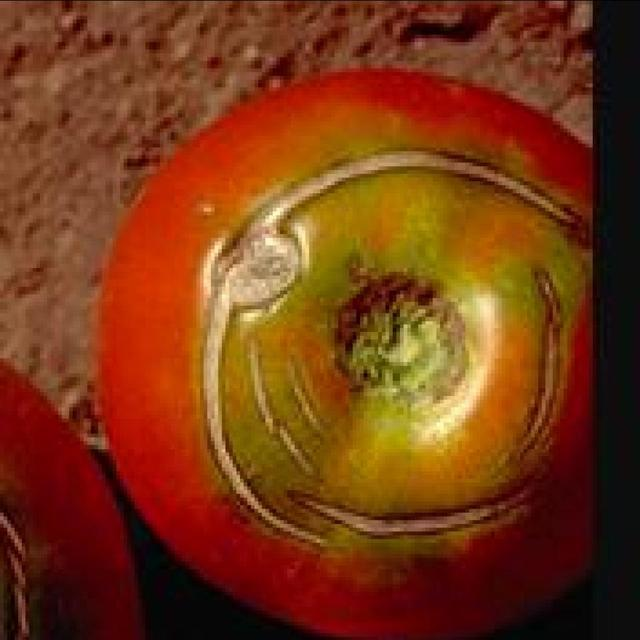Cracking Fruit: (57, 45, 349, 339)
